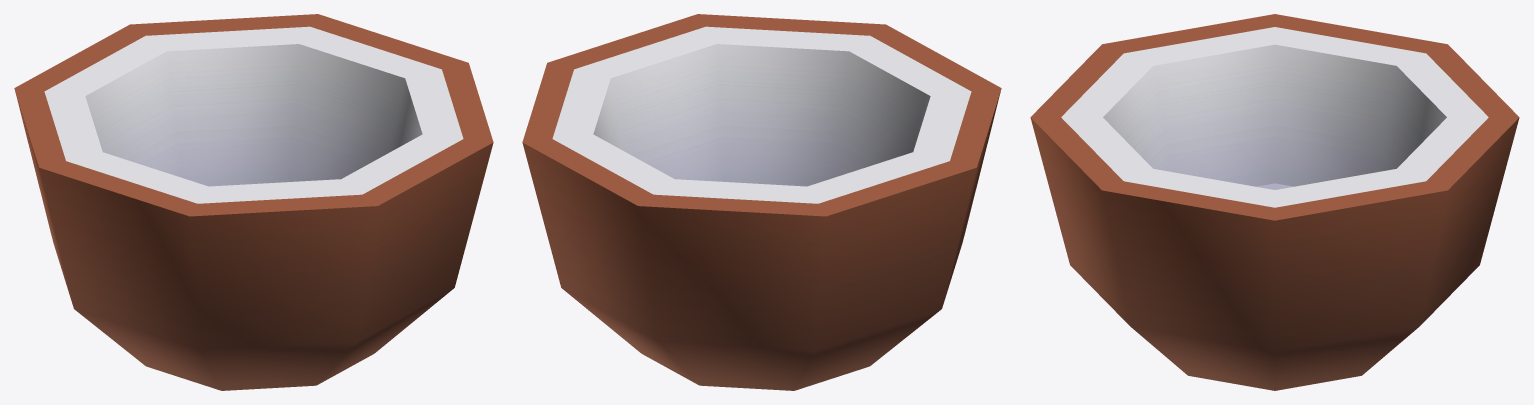
The model's file is coconuthalf.glb.
The picture shows the model from 3 angles, left to right: view 1: azimuth 30°, elevation 25°; view 2: azimuth 150°, elevation 25°; view 3: azimuth 270°, elevation 25°; orthographic projection.
Parts seen in each view (by area): view 1: coconut-half; view 2: coconut-half; view 3: coconut-half.
Boxes of the visible parts, box(x1,y1,x2,y2) form: coconut-half: box(14, 14, 493, 390); coconut-half: box(522, 14, 1001, 390); coconut-half: box(1030, 14, 1519, 390).
Size of the model in its own units: 0.13 by 0.065 by 0.13.
1 material, 1 textured.
